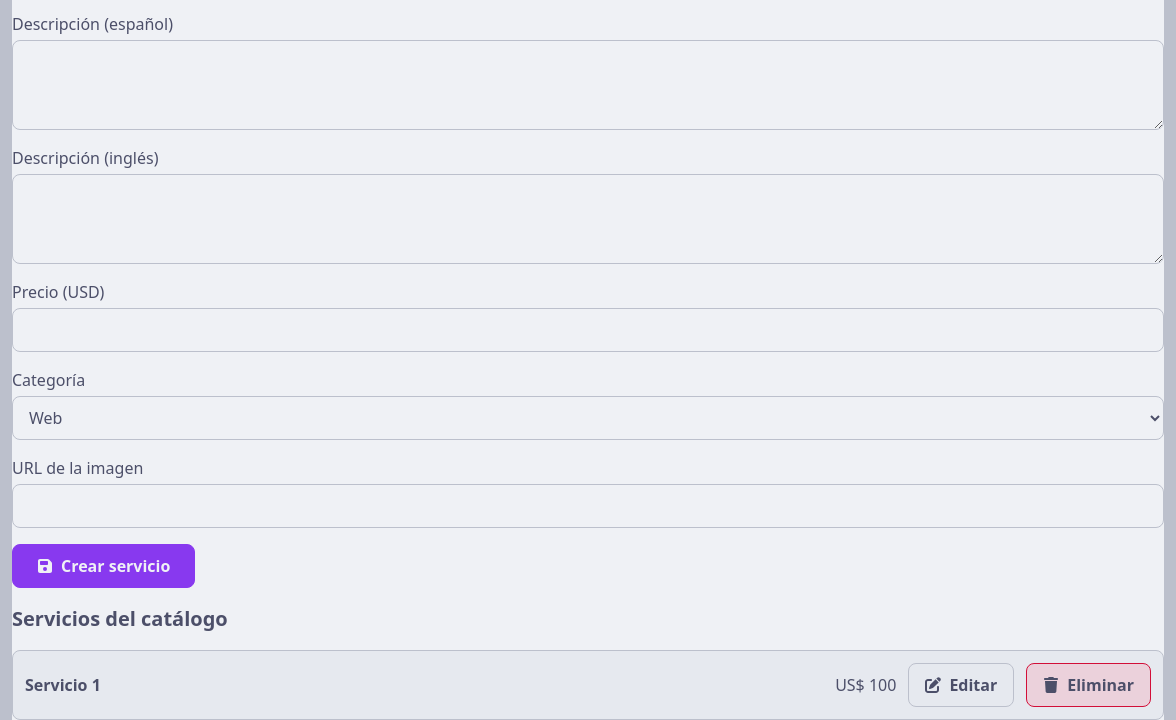
Scenario: Gestion › edit › goes back to create mode when I cancel
(page scrolled)
Expected: the list is shown, top-left (12, 650), bottom-right (1164, 719)
Click the button with aria-label "Editar Servicio 1". click: (961, 685)
box: top-left (908, 663), bottom-right (1014, 707)
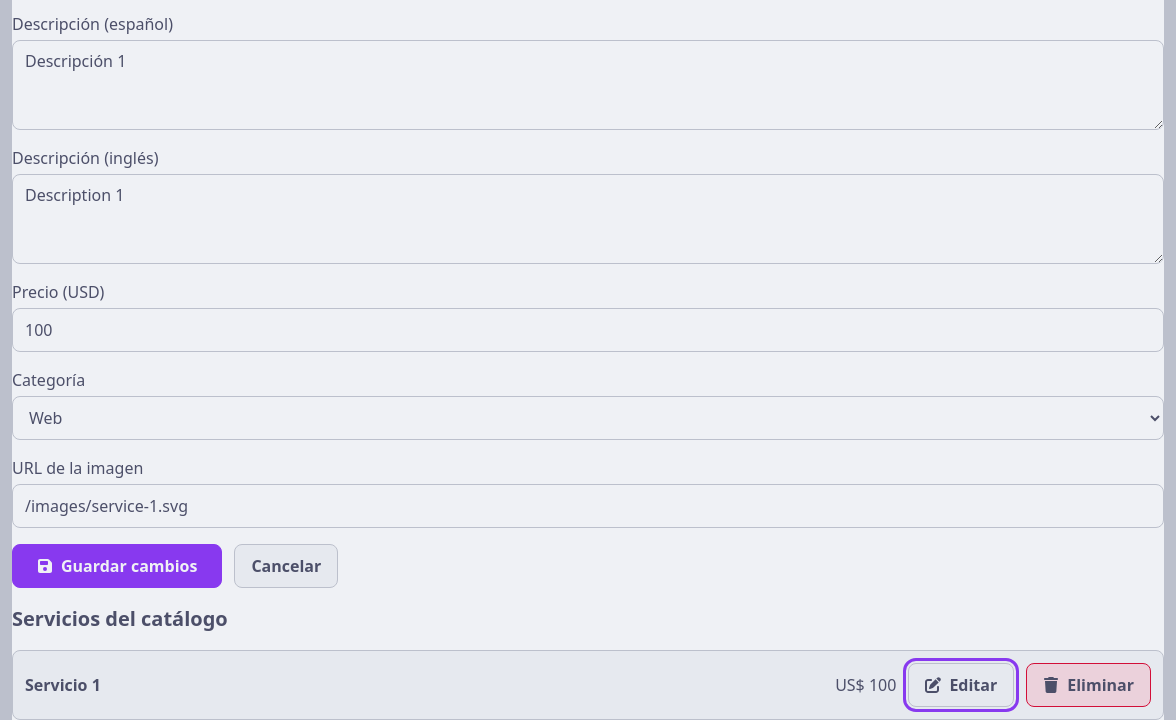
Click the button "Cancelar". click: (286, 566)
box: top-left (234, 544), bottom-right (338, 588)
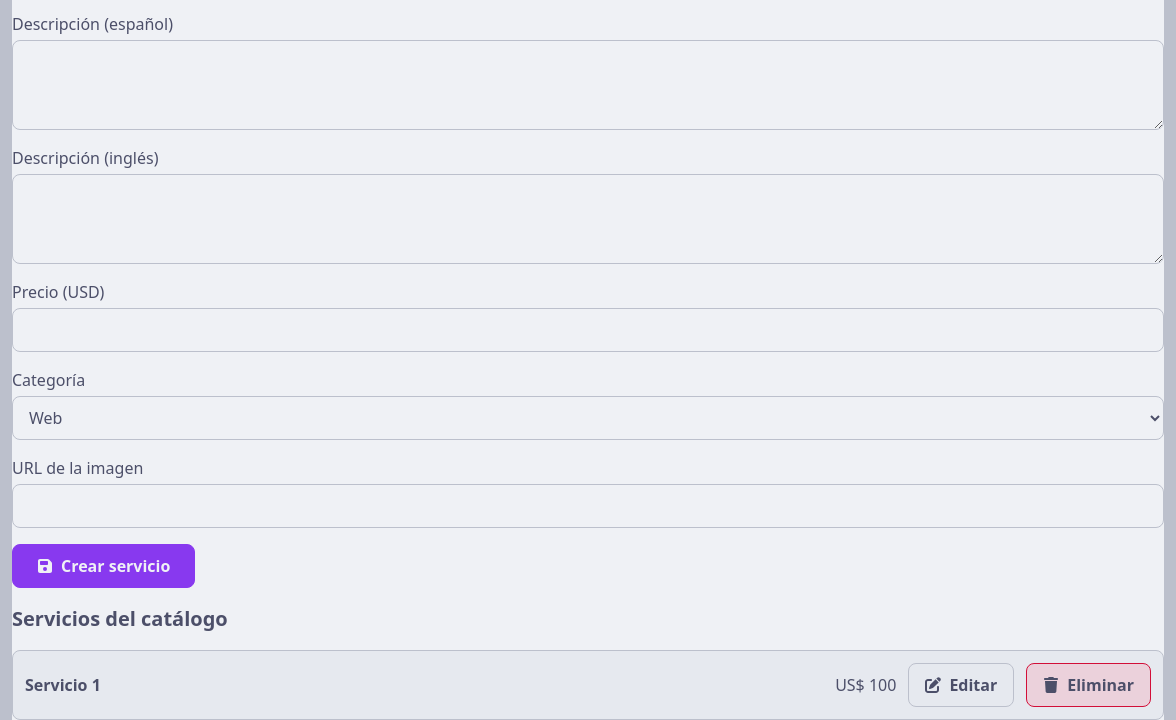
Now the button "Crear servicio" is shown, box top-left (12, 544), bottom-right (195, 588)
